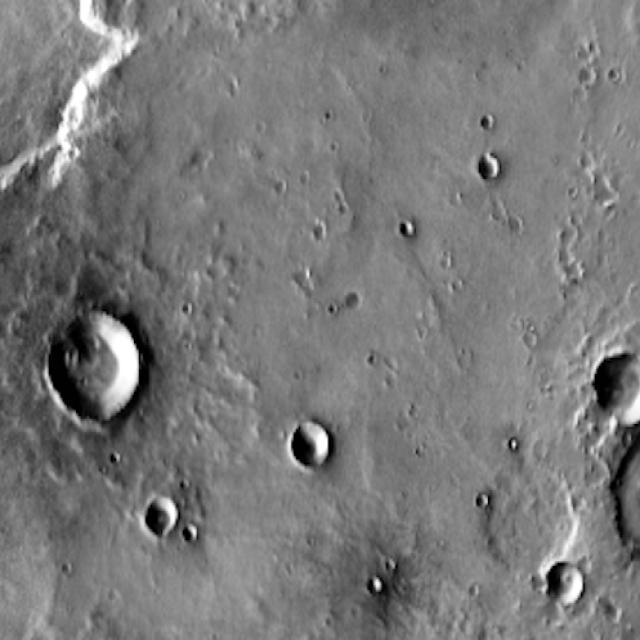Crater: (0, 0, 146, 231), (35, 279, 170, 440), (581, 316, 640, 616), (280, 413, 350, 493), (125, 478, 188, 552)
